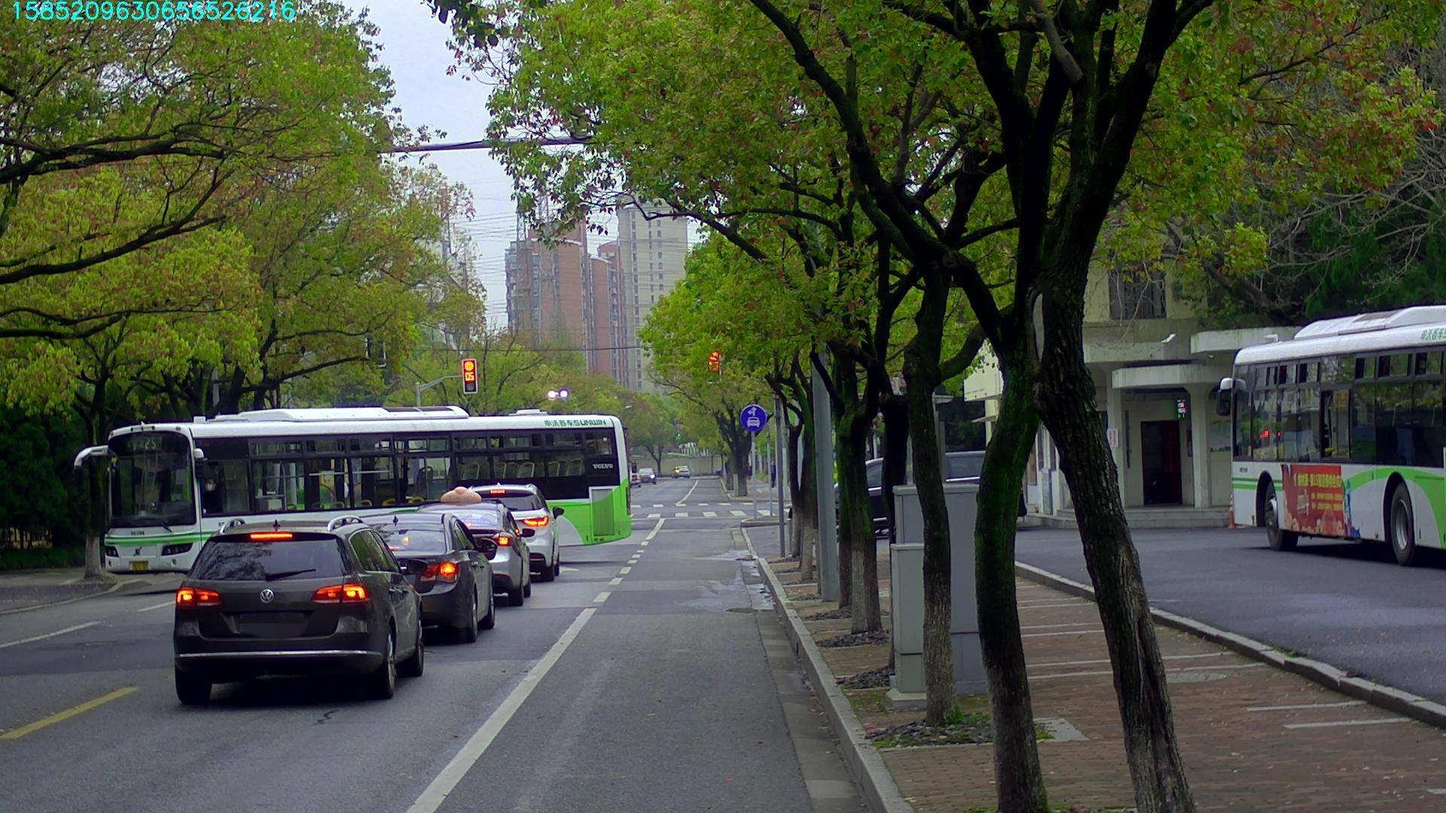red: (707, 346, 720, 382), (462, 359, 476, 392)
